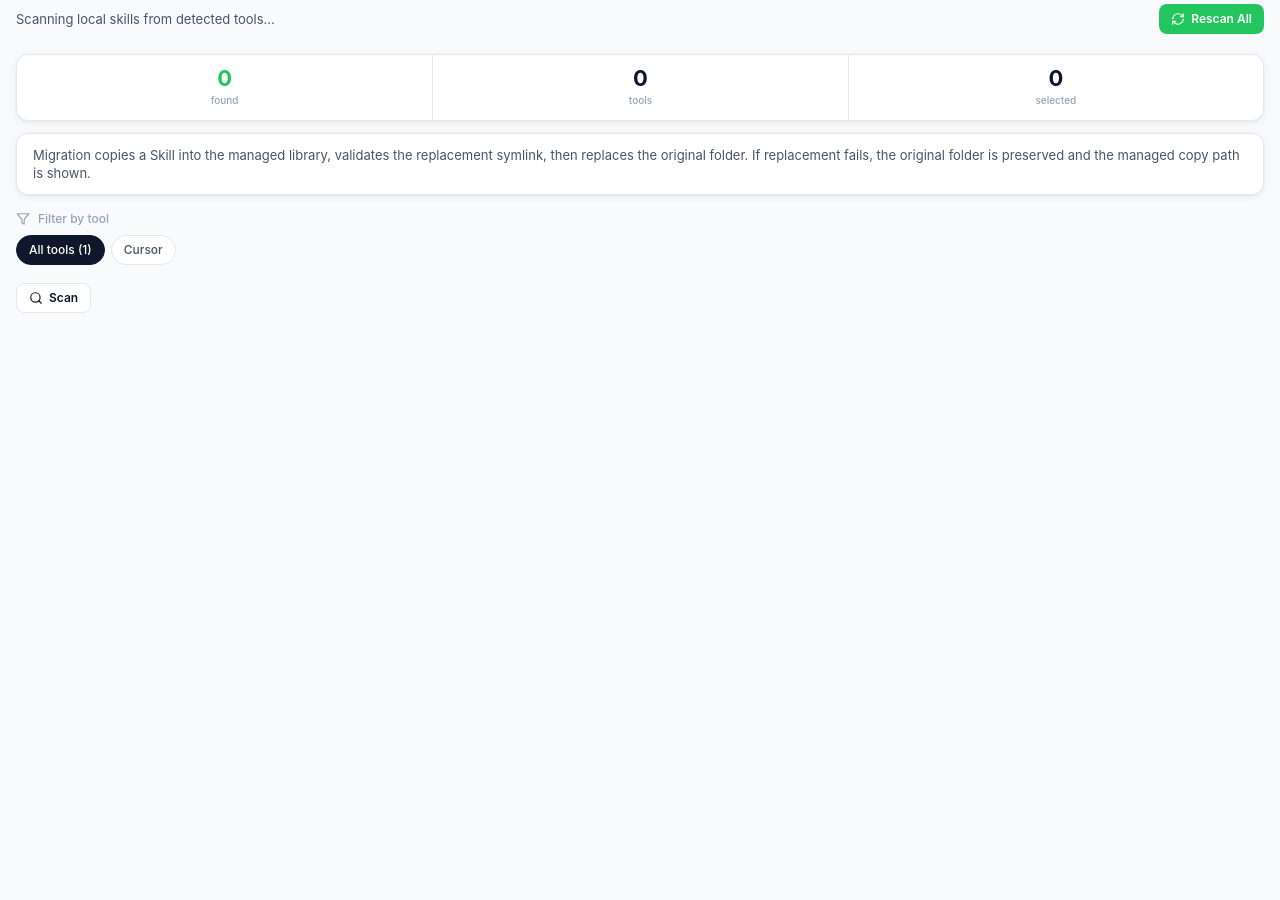
Scenario: MigratePage › shows Retry button on failed row after migrate
The image size is (1280, 900).
Expected: the tab "Cursor" is shown, [111,235,176,265]
Click the button "Scan".
click(54, 298)  # box [16,283,91,313]
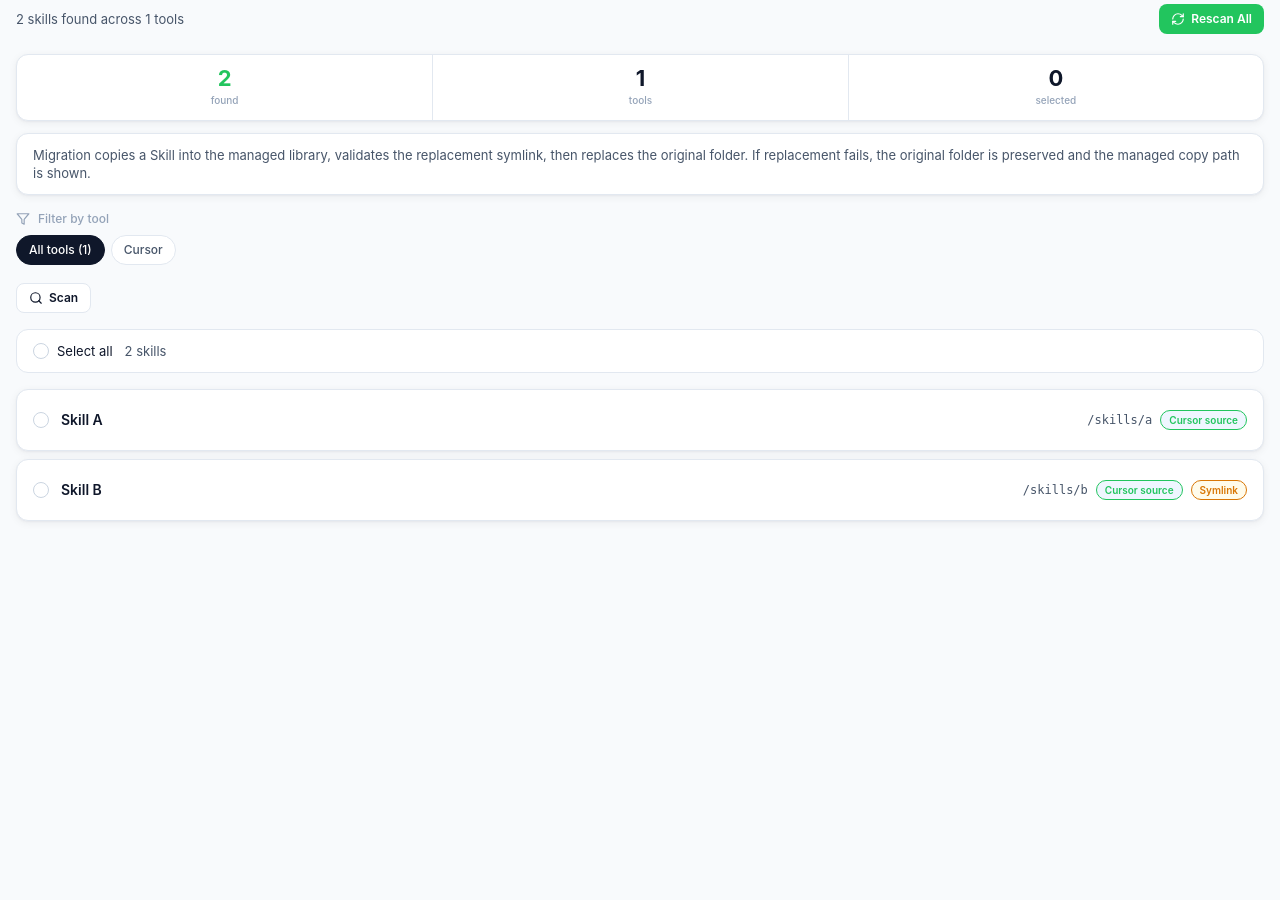
Now the text "Skill A" is shown, box [61,411,103,428]
Click the checkbox named "Select Skill A".
click(41, 420)  # box [33,412,49,428]
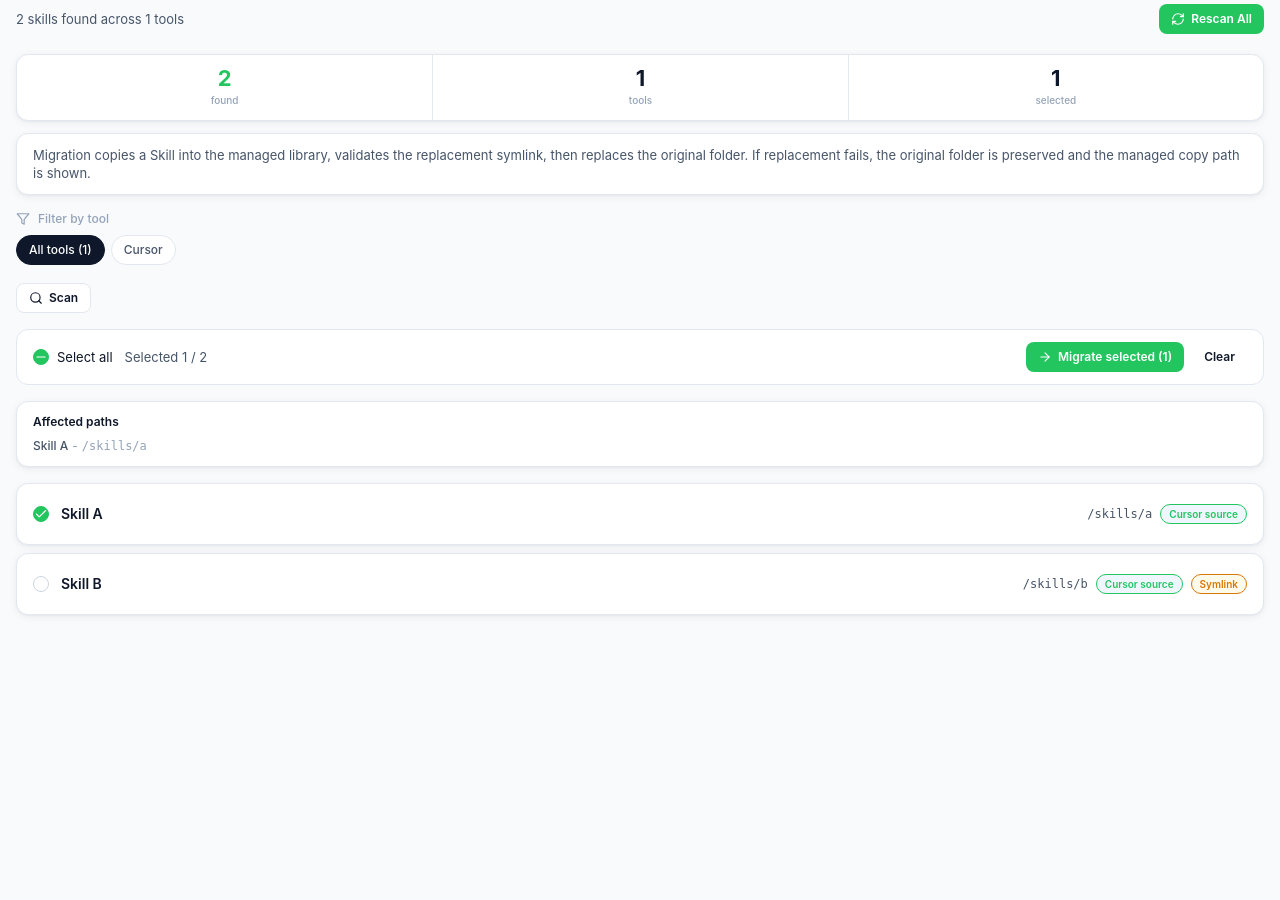
Click the checkbox named "Select Skill B".
click(41, 584)  # box [33,576,49,592]
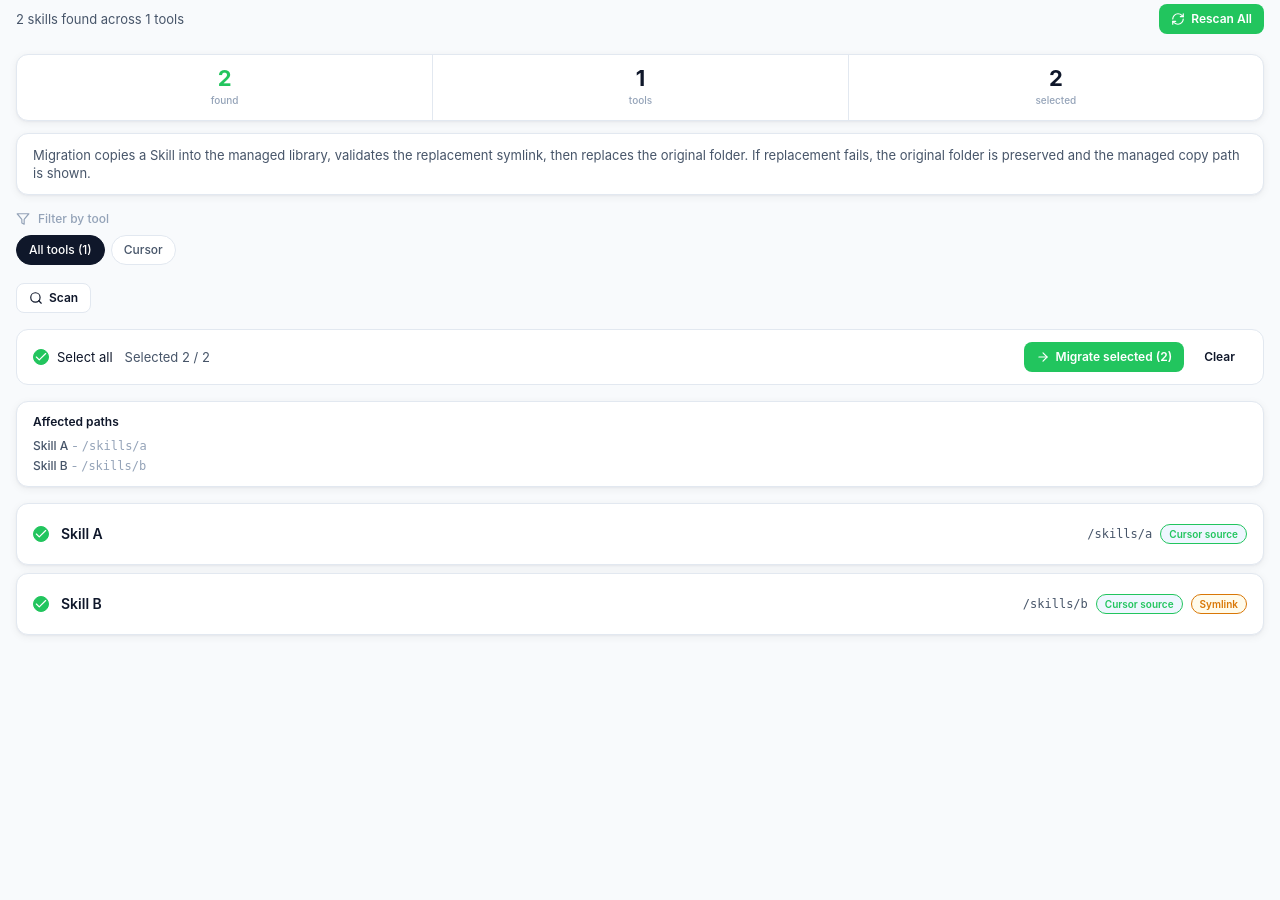
Click the button "Migrate selected (2)".
click(1104, 357)  # box [1024,342,1184,372]
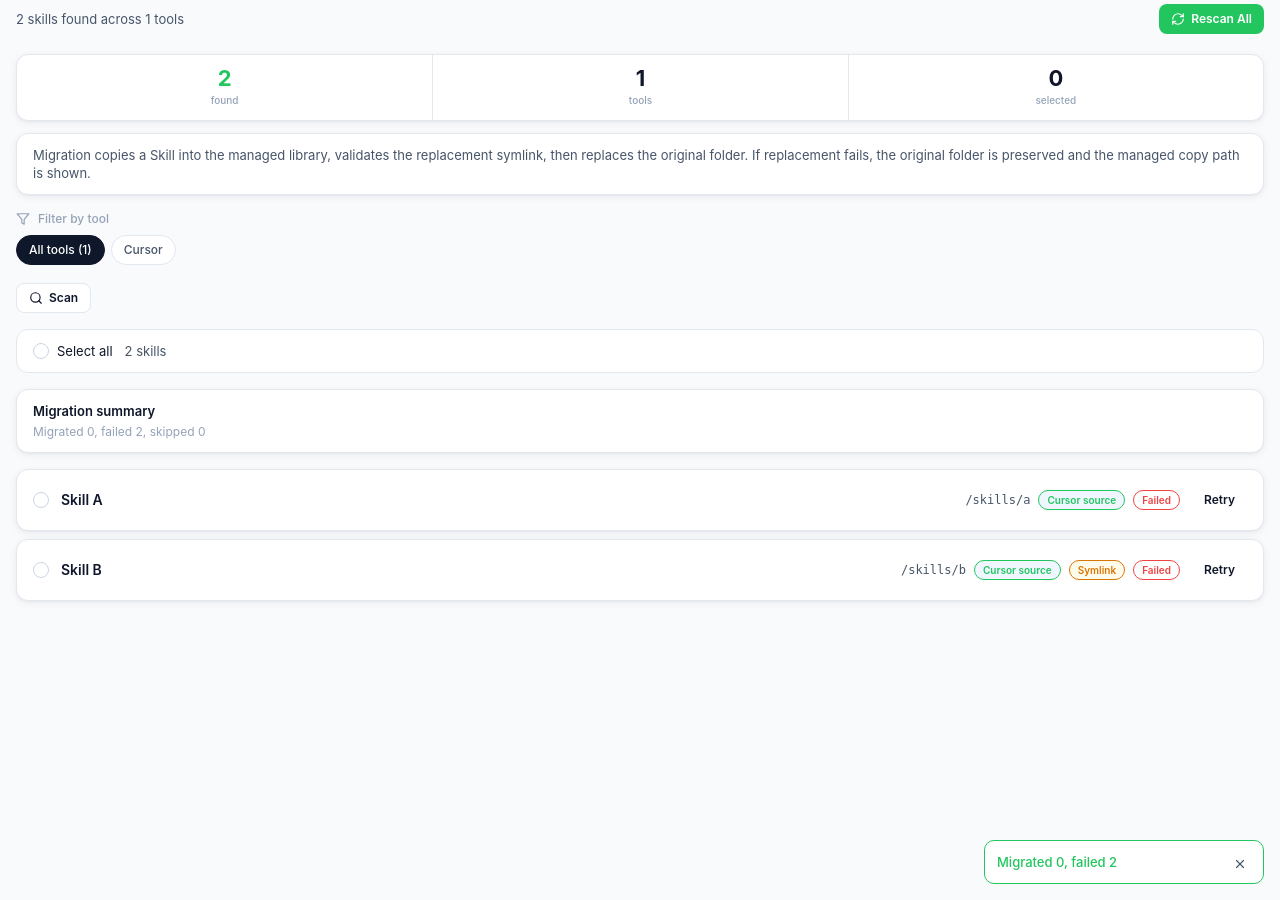
Now the number of buttons "Retry" is 2, box [1192,485,1247,515]; [1192,555,1247,585]
